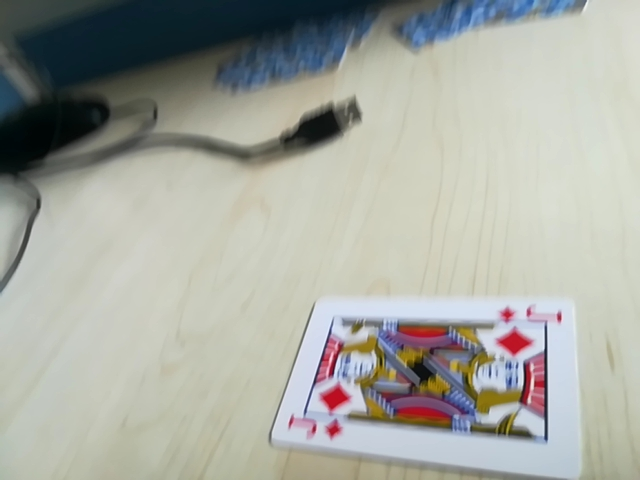fk j: (283, 413, 344, 447), (495, 300, 564, 329)
